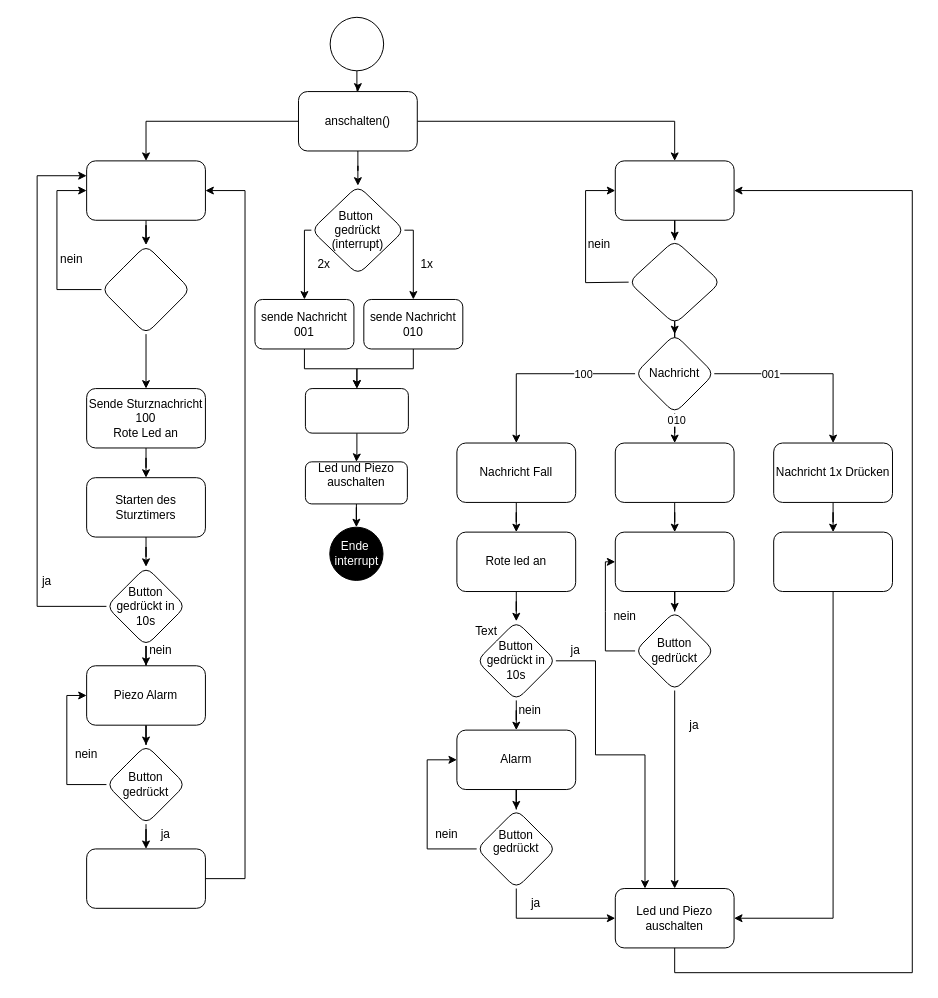
Image size: 938x998. Some labels were removed from this diagram. The shapes that lost their labels are listed below. From the top down, each one's box as (x1, y1, x2, y2) in pixels, then its label:
(329, 16, 384, 71): Start
(86, 160, 205, 220): IMU Berechnung
(614, 160, 734, 220): Listening
(100, 244, 191, 334): wert < Schwellwert
(628, 239, 721, 324): Nachricht erhalten
(304, 388, 408, 433): Led und Piezo an
(614, 442, 734, 502): Nachricht 2x Drücken (Verletzt)
(614, 531, 734, 592): Alarm Ton Piezo Rot/Grün abwechseln
(773, 531, 892, 592): Ton Piezo Grünes Led leuchtet
(86, 848, 205, 908): Led und Piezo ausschalten
